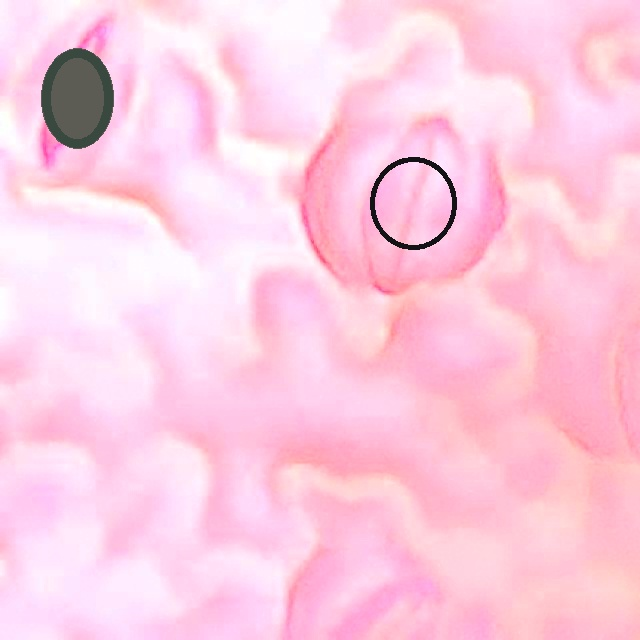close: (369, 156, 457, 250)
open: (41, 48, 113, 147)
